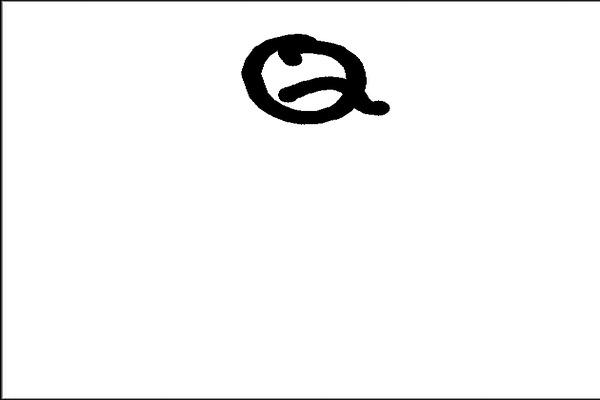Q: (231, 18, 400, 132)
